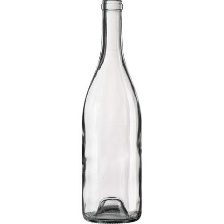bottle: (75, 0, 152, 224)
